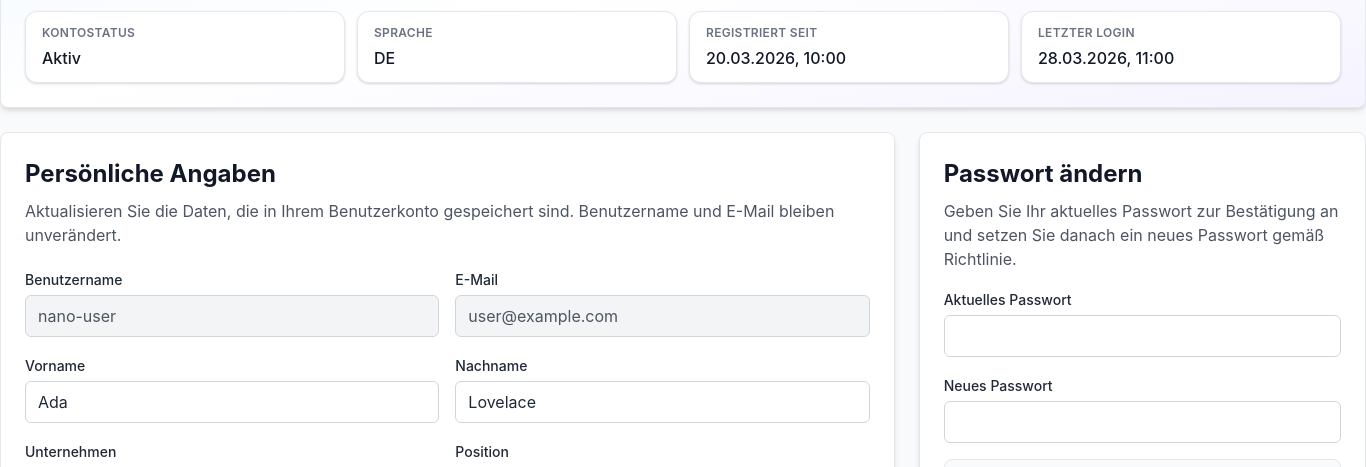
Test: AccountSettingsPage › shows an inline error when the current password is incorrect
In the password field labelled "Aktuelles Passwort": (1142,336) x1=944 y1=315 x2=1341 y2=357, type "WrongP@ss1"
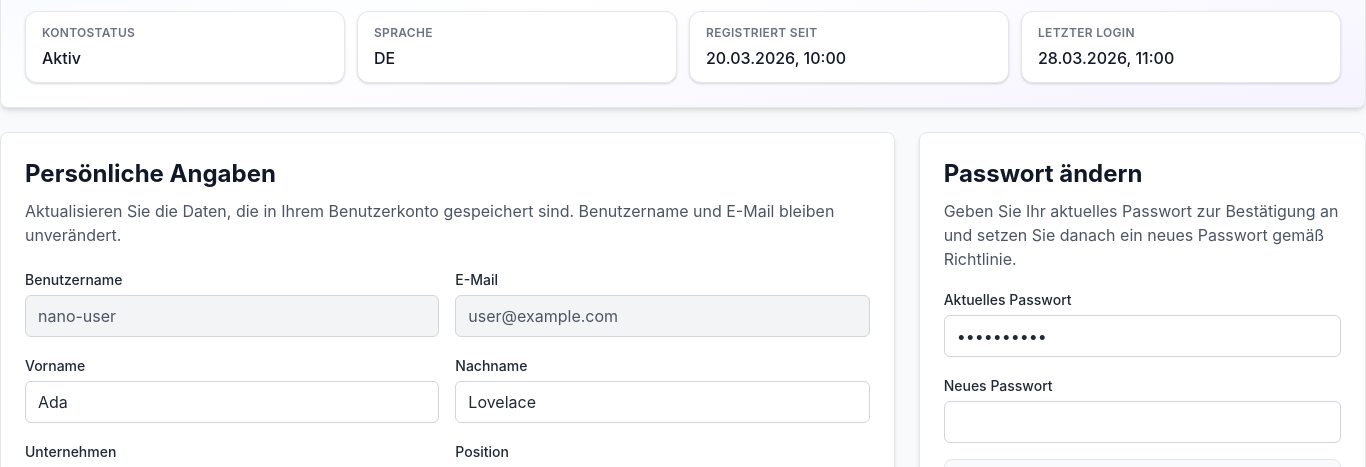
In the password field labelled "Neues Passwort": (1142,422) x1=944 y1=401 x2=1341 y2=443, type "BetterP@ss2"
(page scrolled)
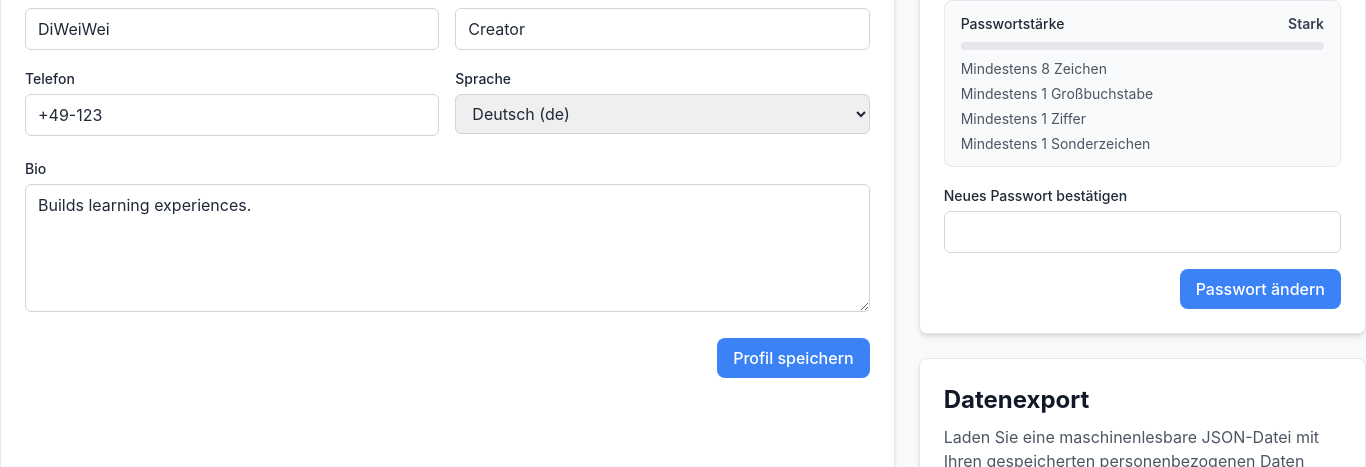
In the password field labelled "Neues Passwort bestätigen": (1142,232) x1=944 y1=211 x2=1341 y2=253, type "BetterP@ss2"
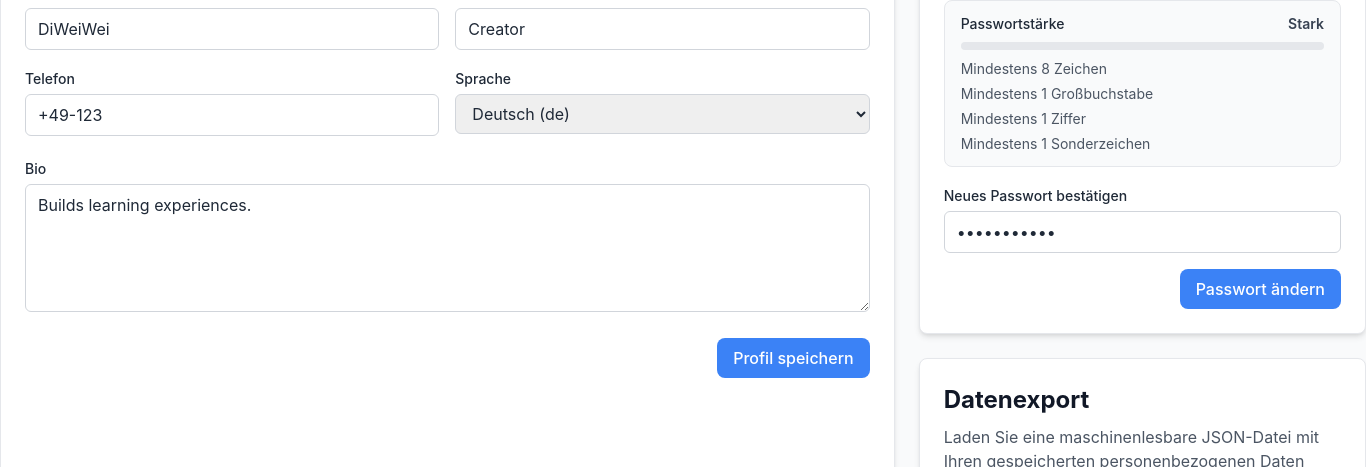
Click the button "Passwort ändern": (1260,289) x1=1180 y1=269 x2=1341 y2=309
(page scrolled)
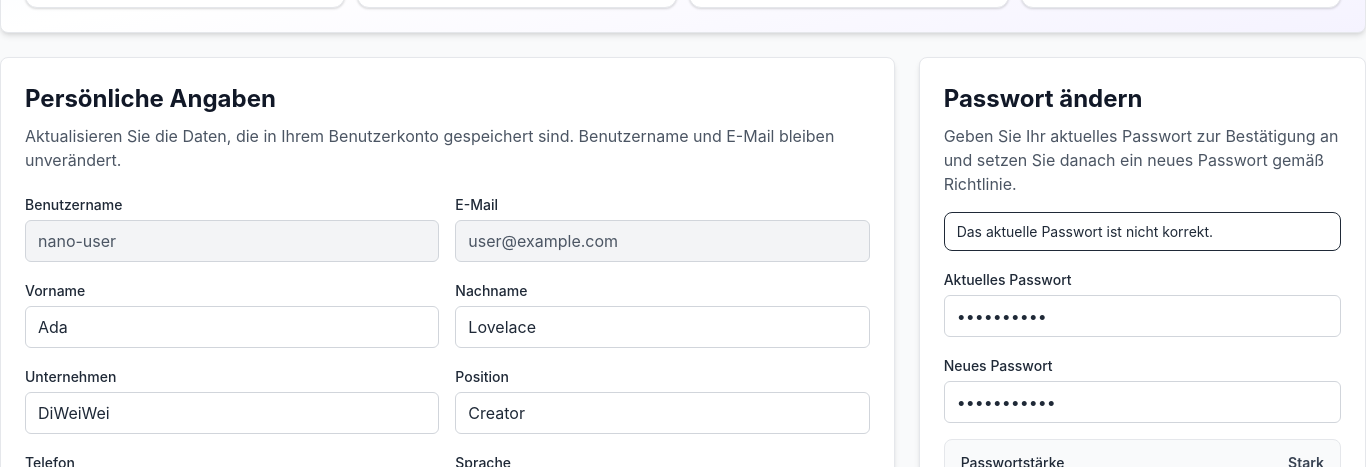
Expected: the text "Das aktuelle Passwort ist nicht korrekt." is shown, x1=944 y1=212 x2=1341 y2=251
